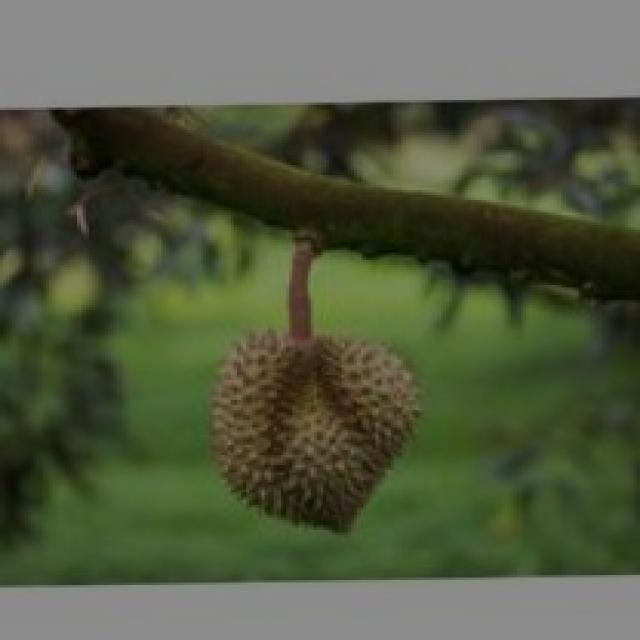fruit: (178, 290, 450, 552)
